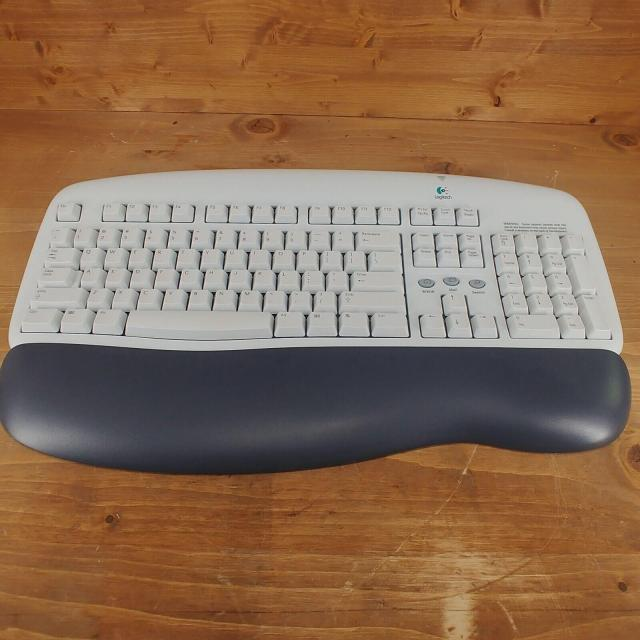keyboard: (5, 190, 629, 351)
